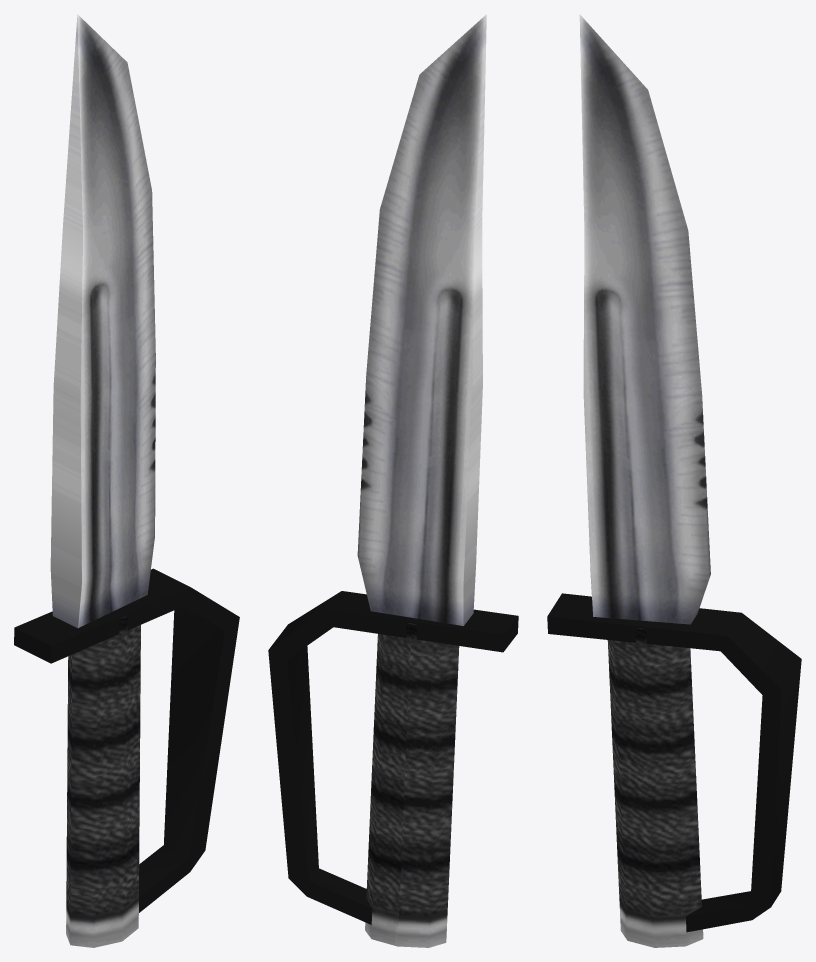
Rendered from p_knife.glb.
The picture shows the model from 3 angles, left to right: view 1: azimuth 30°, elevation 25°; view 2: azimuth 150°, elevation 25°; view 3: azimuth 330°, elevation 25°; orthographic projection. The views are drawn at different scales.
Visible parts, largest first — view 1: p_knife; view 2: p_knife; view 3: p_knife.
Boxes of the visible parts, x1,y1,x2,y2 form: p_knife: (14, 14, 239, 947); p_knife: (268, 14, 518, 947); p_knife: (547, 14, 801, 947).
Bounding box in the file's own units: 3.39 × 13.7 × 1.59.
Materials: 2 (2 with a texture image).
